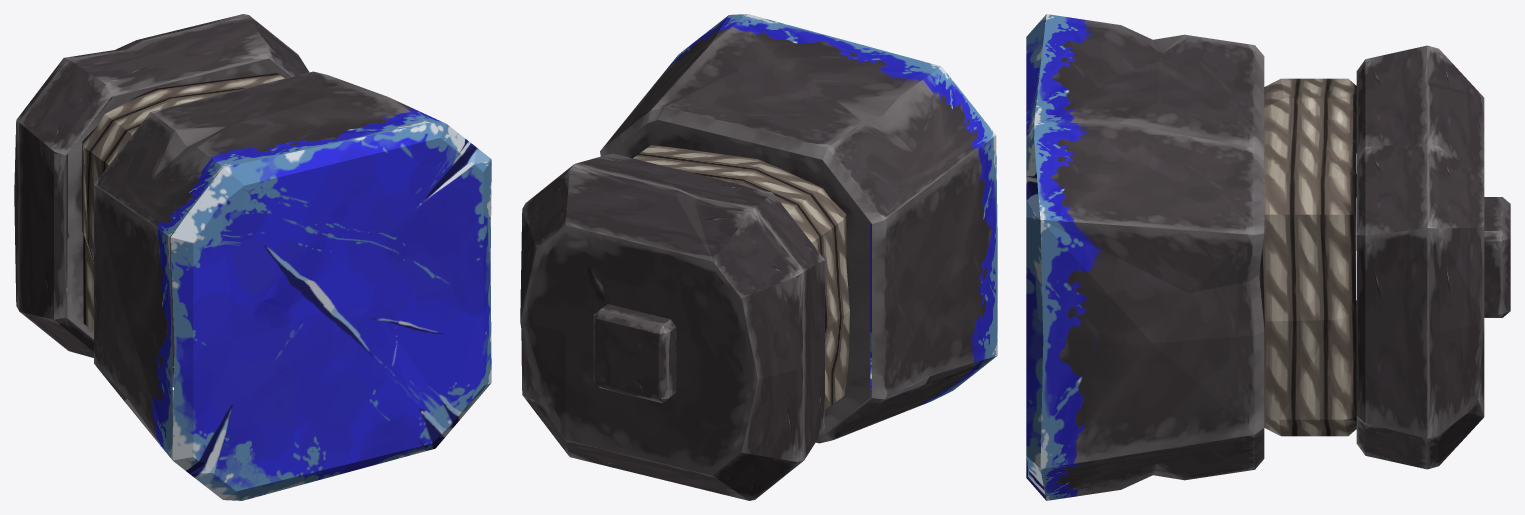
The model's file is magnet_natural.obj.
The picture shows the model from 3 angles, left to right: view 1: azimuth 30°, elevation 25°; view 2: azimuth 150°, elevation 25°; view 3: azimuth 270°, elevation 25°; orthographic projection. The views are drawn at different scales.
Parts seen in each view (by area): view 1: natural-magnet; view 2: natural-magnet; view 3: natural-magnet.
Part boxes in pixels (box(x1,y1,x2,y2)): natural-magnet: box(14, 14, 491, 500); natural-magnet: box(520, 14, 997, 500); natural-magnet: box(1026, 14, 1510, 500).
Bounding box in the file's own units: 1.68 × 1.67 × 1.97.
